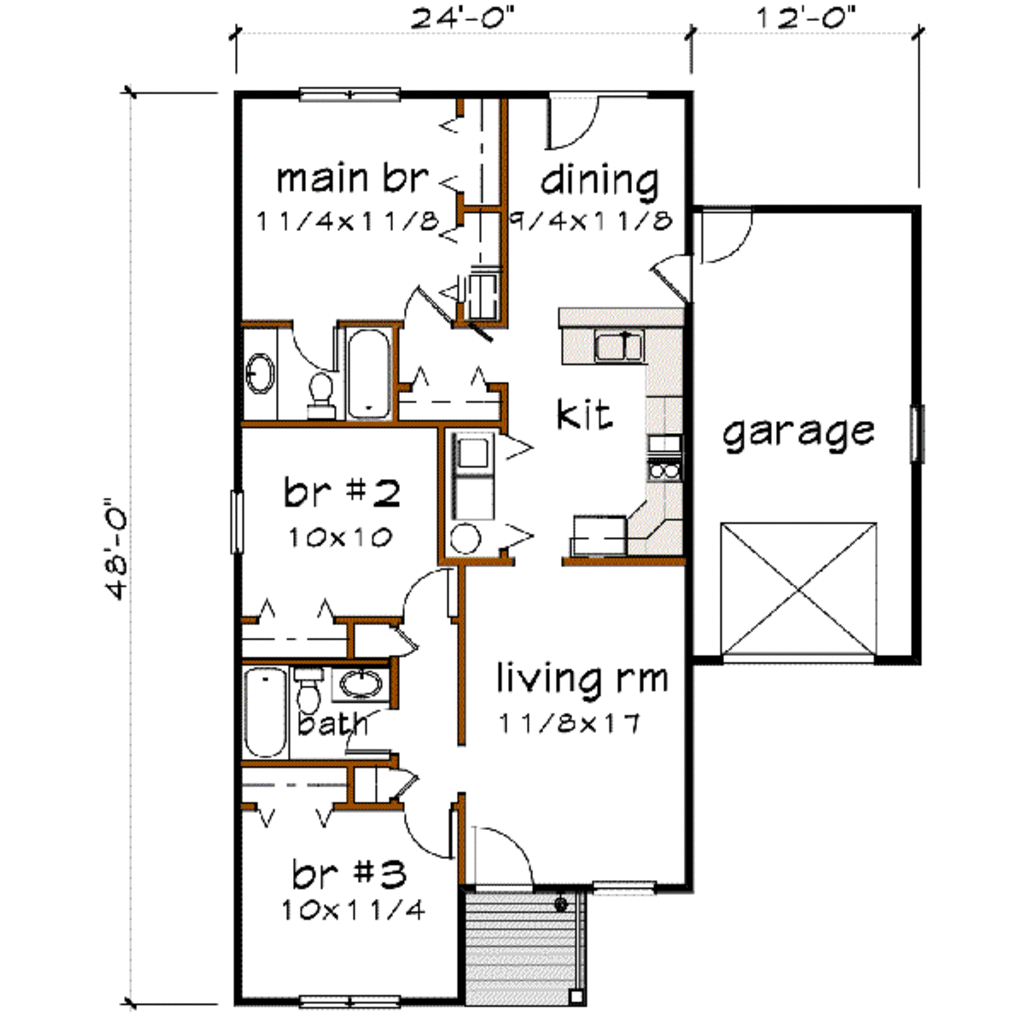door: (467, 824, 545, 893), (389, 801, 464, 866), (540, 82, 602, 152), (384, 562, 456, 619), (692, 208, 759, 266), (646, 241, 705, 306), (335, 706, 406, 755), (279, 317, 343, 368), (402, 282, 464, 327), (378, 625, 427, 657)
large_sink: (289, 363, 349, 427), (292, 662, 333, 714)
small_sink: (237, 324, 279, 412), (324, 662, 392, 700)
stairs: (456, 890, 584, 1006)
tub: (343, 324, 402, 419), (240, 663, 287, 766)
twin_sink: (581, 320, 654, 373)
window: (286, 992, 405, 1014), (900, 400, 937, 466), (292, 84, 402, 103), (225, 492, 252, 552)
